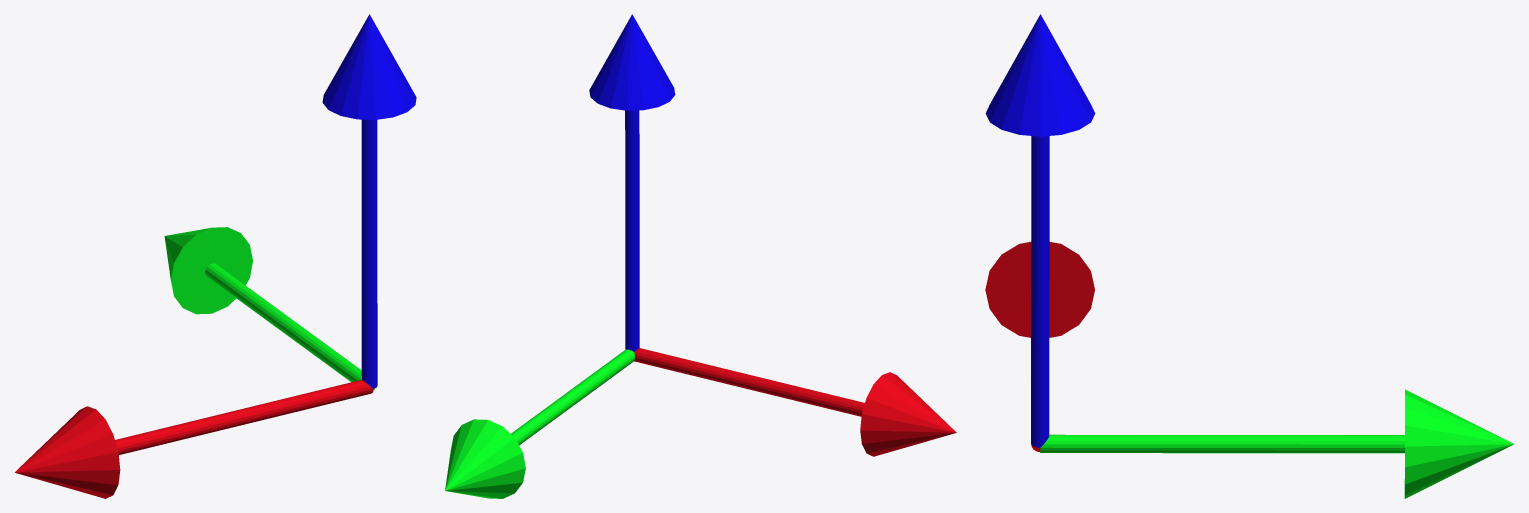
Rendered from Arrow_v12.fbx.
The picture shows the model from 3 angles, left to right: view 1: azimuth 30°, elevation 25°; view 2: azimuth 150°, elevation 25°; view 3: azimuth 270°, elevation 25°; orthographic projection. The views are drawn at different scales.
Parts seen in each view (by area): view 1: Arrow; view 2: Arrow; view 3: Arrow.
Part boxes in pixels (box(x1,y1,x2,y2)): Arrow: box(15, 14, 416, 498); Arrow: box(445, 14, 956, 498); Arrow: box(985, 14, 1514, 498).
Size of the model in its own units: 10015 by 10019 by 10015.
